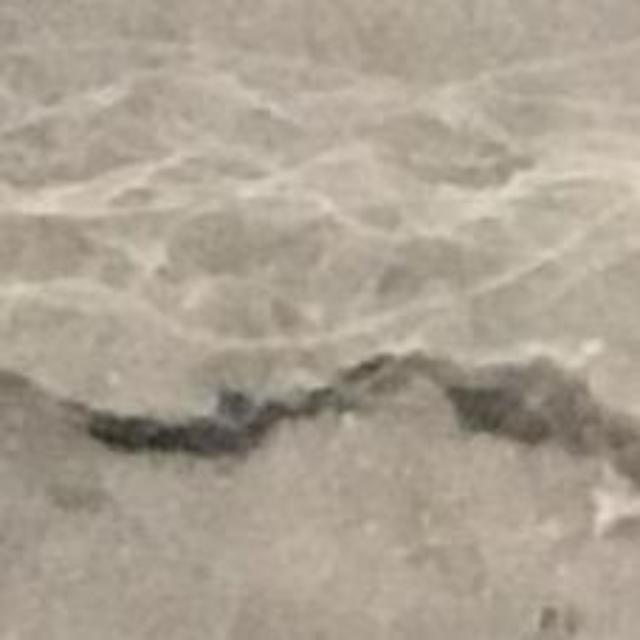crack: (0, 356, 639, 482)
